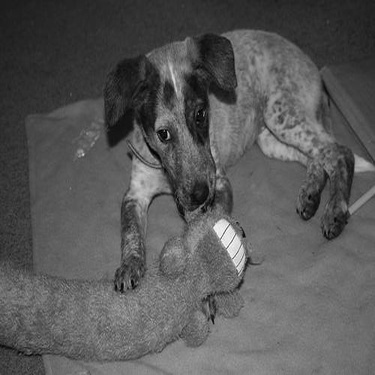dog: (64, 17, 365, 296)
